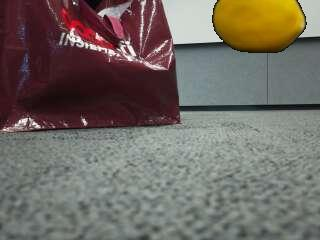lemon: (214, 0, 306, 52)
